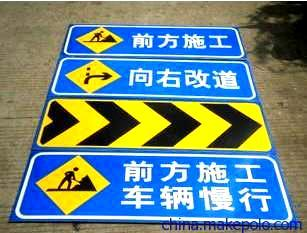sign: (5, 23, 297, 223)
